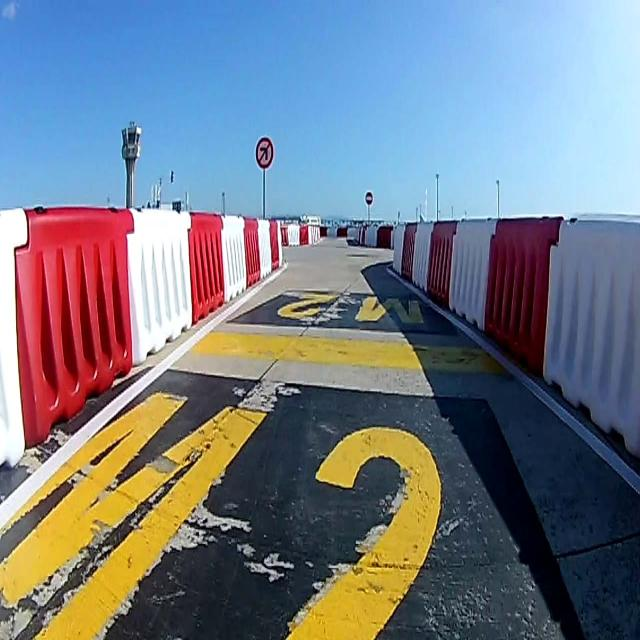soladonulmez: (256, 138, 274, 168)
